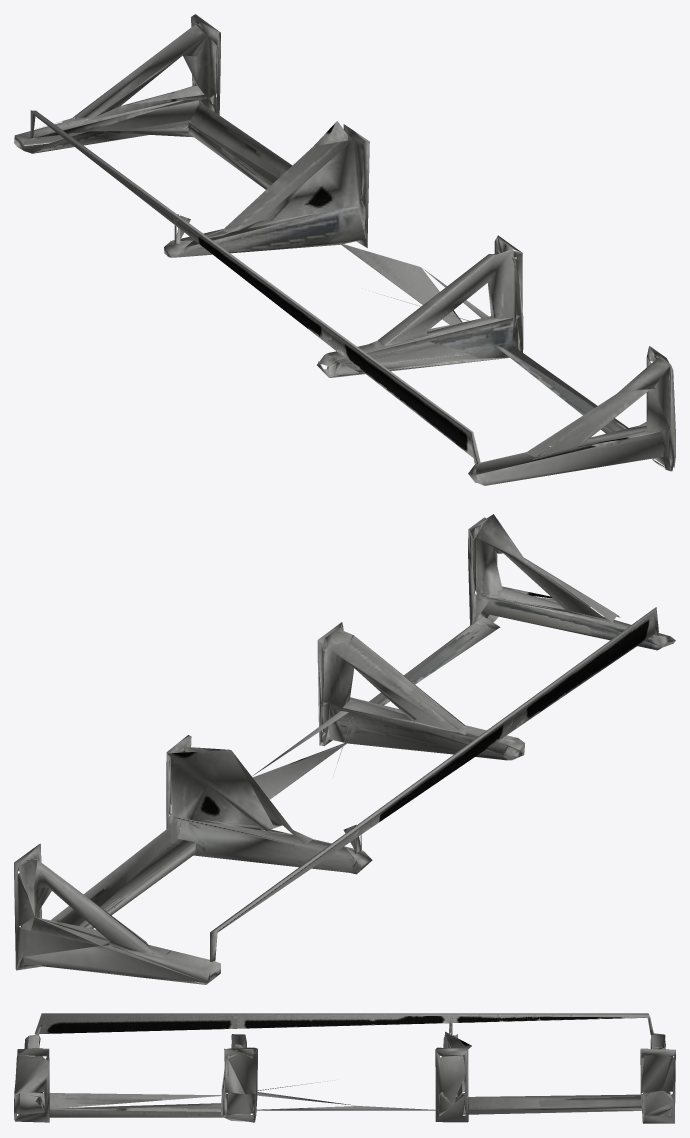
File: hylly_m.glb
3 views of the same model, one above another, from view 1: azimuth 30°, elevation 25°; view 2: azimuth 150°, elevation 25°; view 3: azimuth 270°, elevation 25° (orthographic). The views are drawn at different scales.
Parts seen in each view (by area): view 1: hylly; view 2: hylly; view 3: hylly.
Boxes of the visible parts, x1,y1,x2,y2 form: hylly: (14,14,675,485); hylly: (14,514,675,984); hylly: (14,1013,675,1123).
Bounding box in the file's own units: 0.4032 × 0.2224 × 1.75.
Materials: 1 (1 with a texture image).
